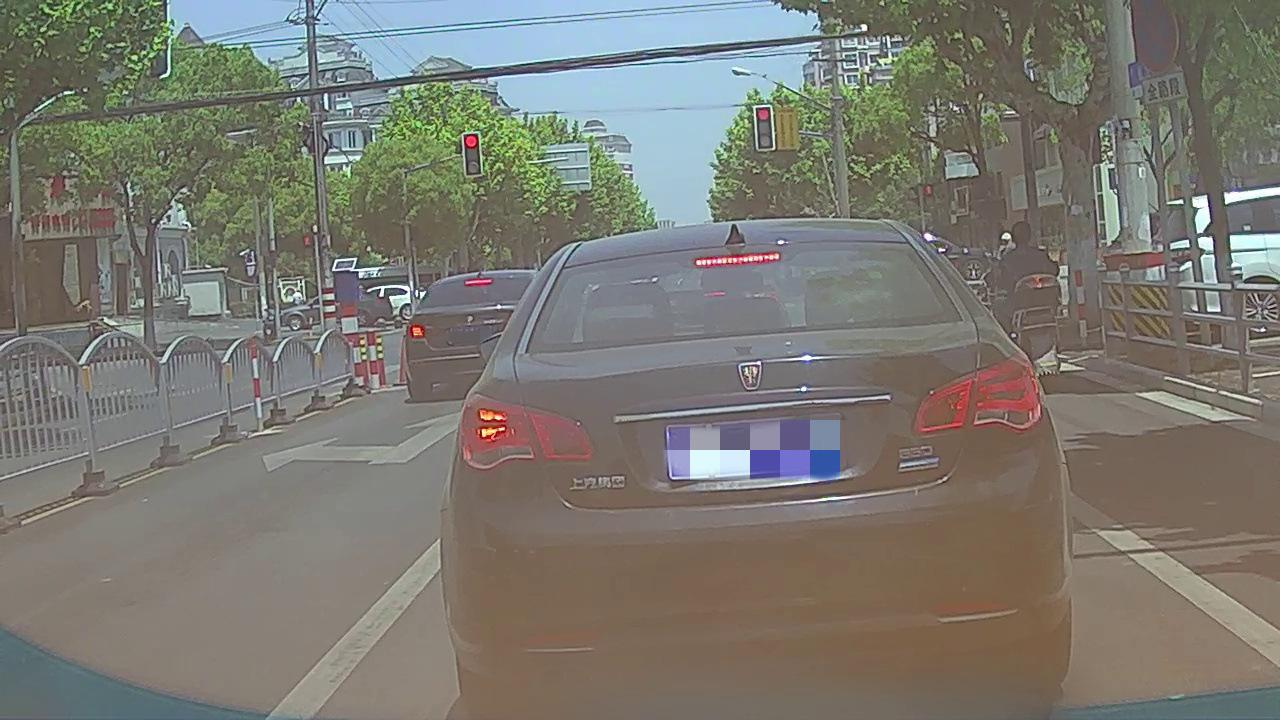traffic_light: (755, 105, 772, 148), (463, 134, 480, 175)
